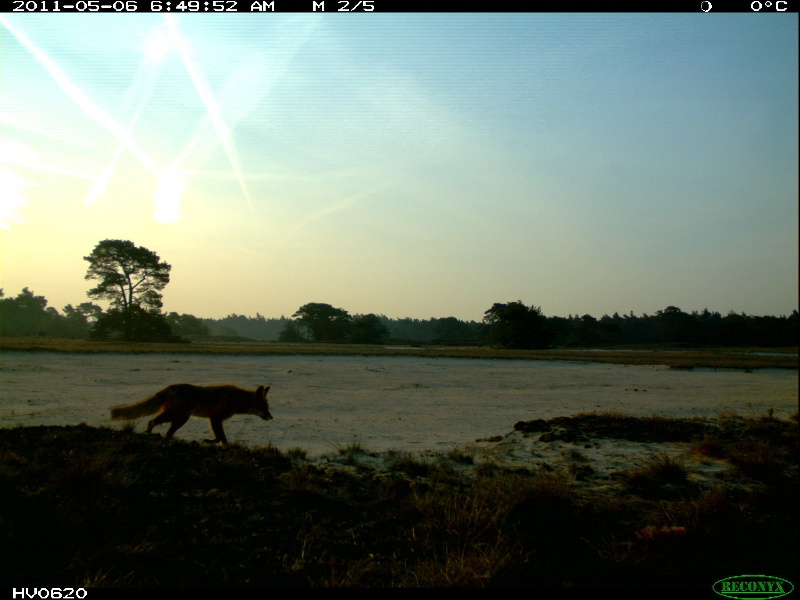fox: (107, 382, 280, 441)
